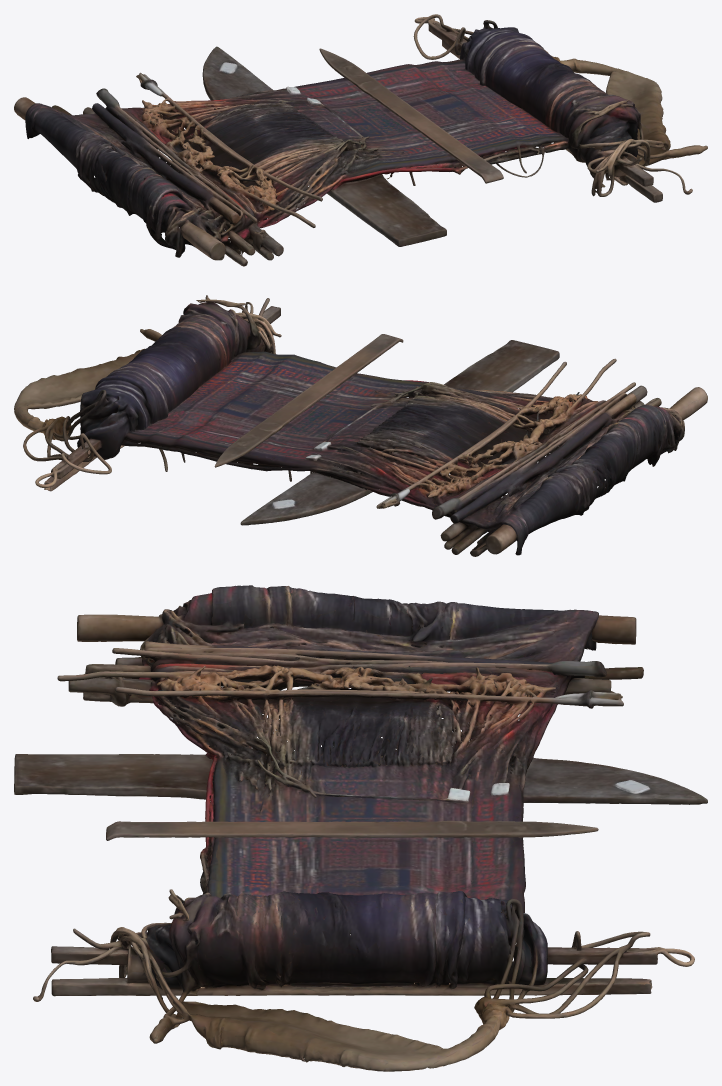
3 views of the same model, one above another, from view 1: azimuth 30°, elevation 25°; view 2: azimuth 150°, elevation 25°; view 3: azimuth 270°, elevation 25° (orthographic). The views are drawn at different scales.
Visible parts, largest first — view 1: world; view 2: world; view 3: world.
Part boxes in pixels (bbox=[...]): world: bbox=[14, 14, 707, 266]; world: bbox=[14, 295, 707, 556]; world: bbox=[14, 585, 707, 1071].
Size of the model in its own units: 0.9872 by 0.1404 by 0.7448.
1 material, 1 textured.
